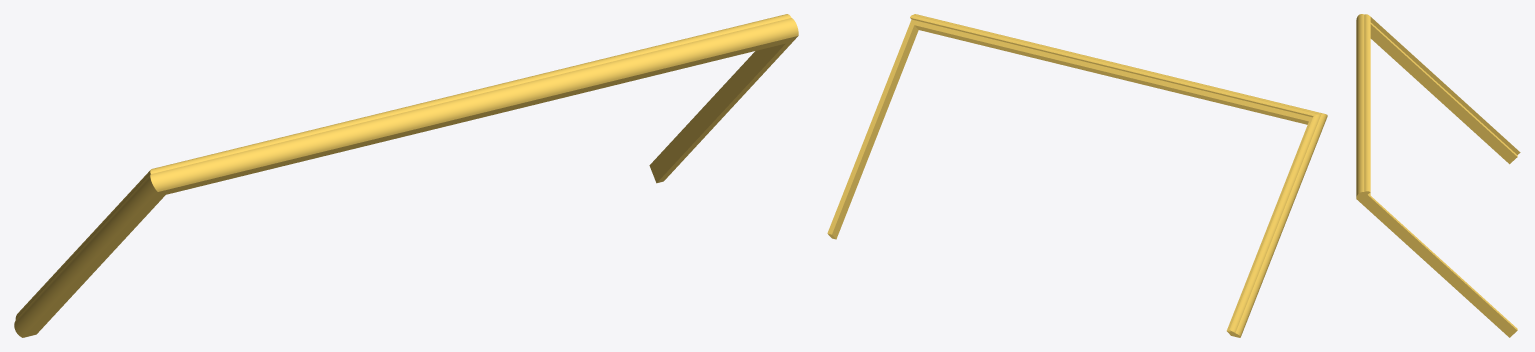
File: original-11.obj
3 views of the same model, side by side, from view 1: azimuth 30°, elevation 25°; view 2: azimuth 150°, elevation 25°; view 3: azimuth 270°, elevation 25° (orthographic). The views are drawn at different scales.
Visible parts, largest first — view 1: mesh19/mesh19-geometry#mesh19-geometry; view 2: mesh19/mesh19-geometry#mesh19-geometry; view 3: mesh19/mesh19-geometry#mesh19-geometry.
Boxes of the visible parts, left/top/right/bottom form: mesh19/mesh19-geometry#mesh19-geometry: left=14, top=14, right=798, bottom=337; mesh19/mesh19-geometry#mesh19-geometry: left=827, top=14, right=1327, bottom=337; mesh19/mesh19-geometry#mesh19-geometry: left=1356, top=14, right=1520, bottom=337.
Bounding box in the file's own units: 1.4 × 0.5354 × 0.5427.
